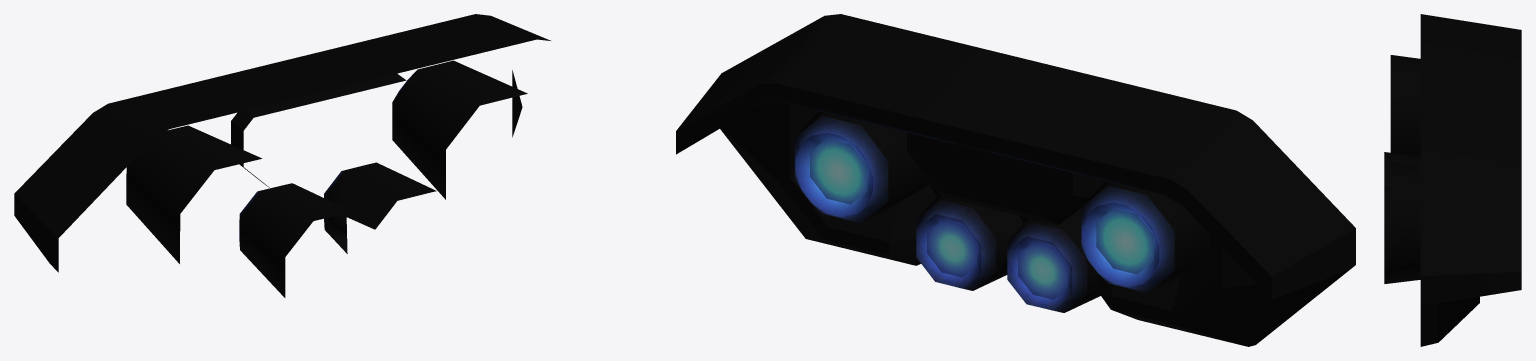
Rendered from engine_hgn_explorer_02_ion_02_t1.glb.
The picture shows the model from 3 angles, left to right: view 1: azimuth 30°, elevation 25°; view 2: azimuth 150°, elevation 25°; view 3: azimuth 270°, elevation 25°; orthographic projection. The views are drawn at different scales.
Parts seen in each view (by area): view 1: explorer_02_engine_m_LOD0; view 2: explorer_02_engine_m_LOD0; view 3: explorer_02_engine_m_LOD0.
Boxes of the visible parts, x1,y1,x2,y2 form: explorer_02_engine_m_LOD0: (14, 14, 550, 297); explorer_02_engine_m_LOD0: (676, 14, 1355, 346); explorer_02_engine_m_LOD0: (1384, 14, 1521, 346).
Bounding box in the file's own units: 2.51 × 0.8698 × 0.6153.
Materials: 1 (1 with a texture image).
